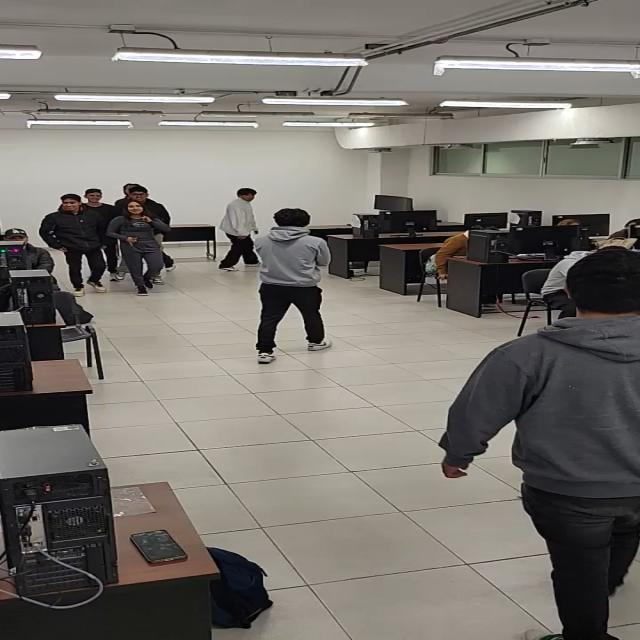Persona: (437, 248, 640, 640), (253, 208, 333, 364), (38, 193, 108, 297), (107, 200, 172, 296), (218, 188, 263, 270), (80, 188, 118, 285), (116, 185, 172, 228)
